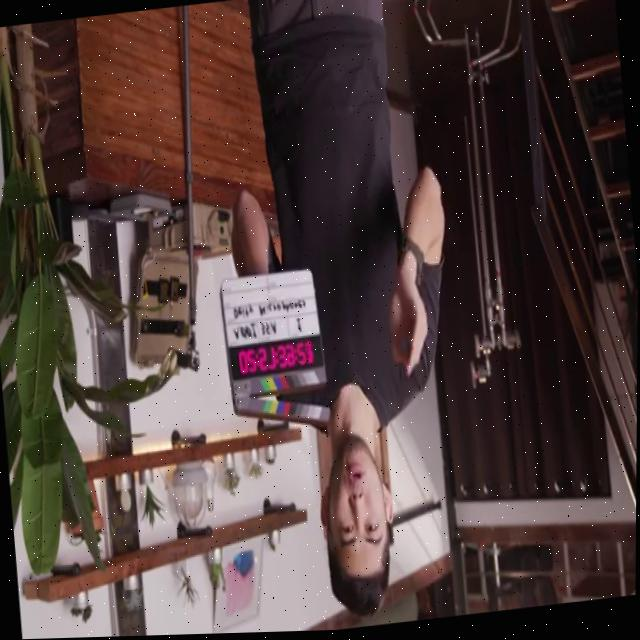Clapperboard: (218, 268, 333, 437)
